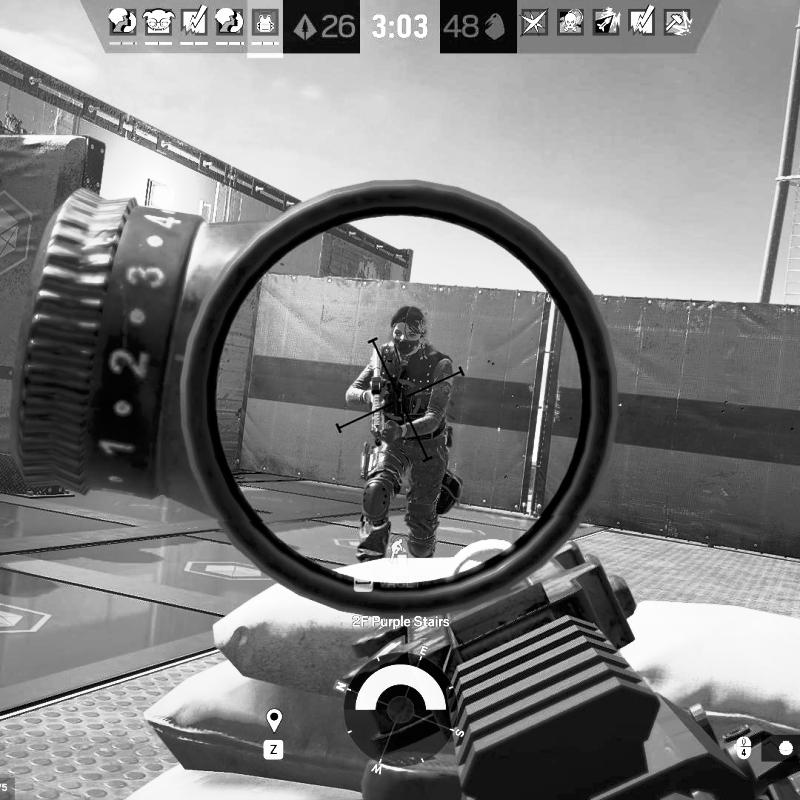Character: (342, 302, 465, 565)
Head: (388, 303, 428, 357)
